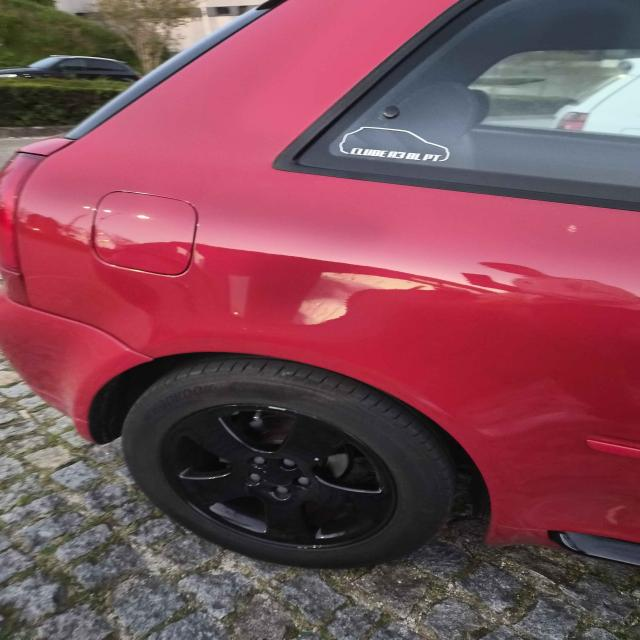jante: (157, 400, 399, 550)
parafuso: (278, 456, 302, 473), (248, 452, 271, 468), (271, 486, 292, 501), (243, 472, 264, 486), (292, 475, 314, 487)
roda: (119, 357, 459, 571)
